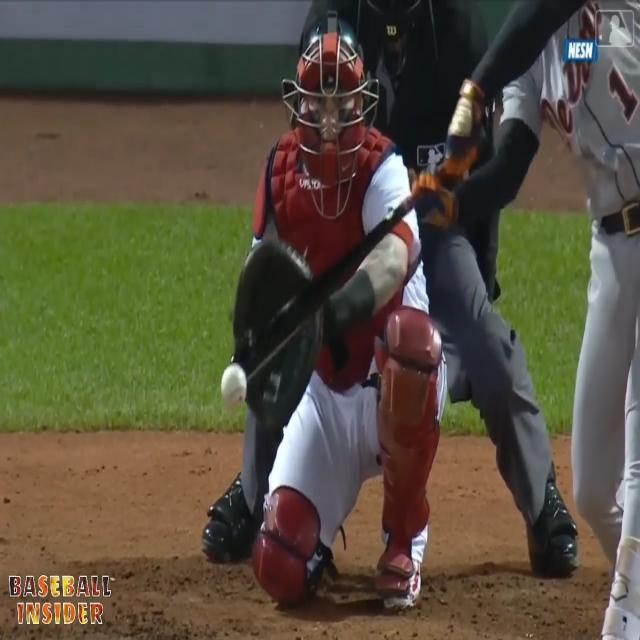baseball: (221, 364, 247, 409)
